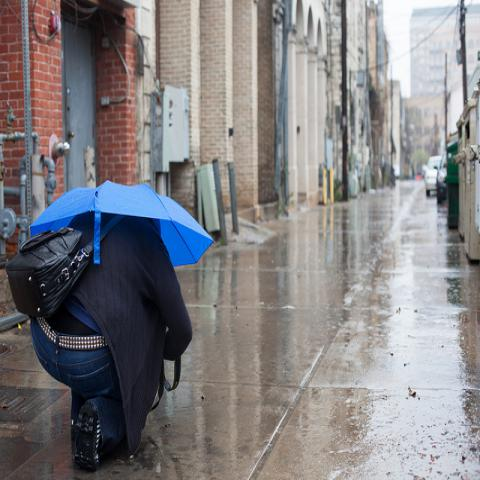car: (421, 155, 442, 196), (433, 151, 447, 206), (416, 173, 422, 180)
